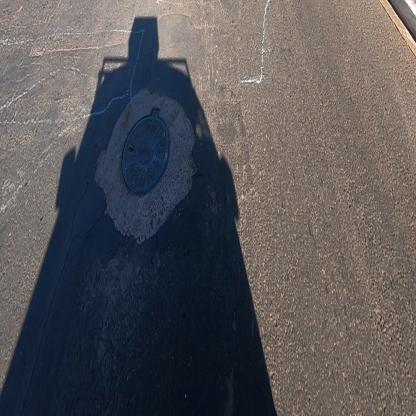manholes: (117, 95, 178, 209)
